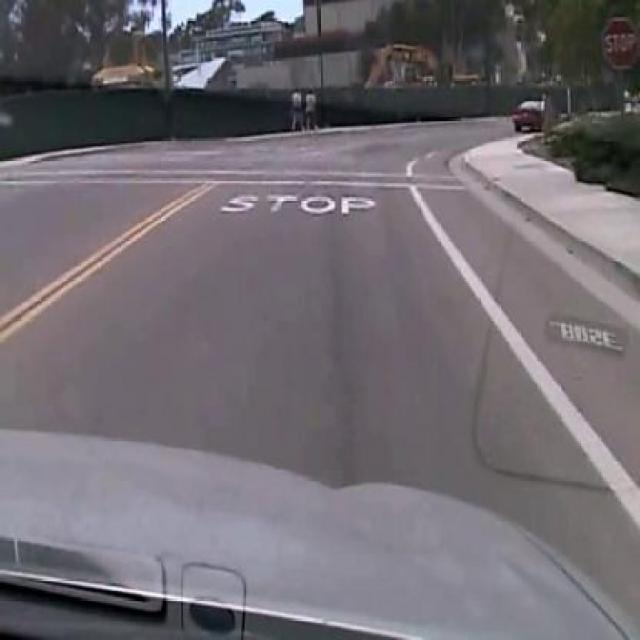Stop: (599, 9, 639, 86)
